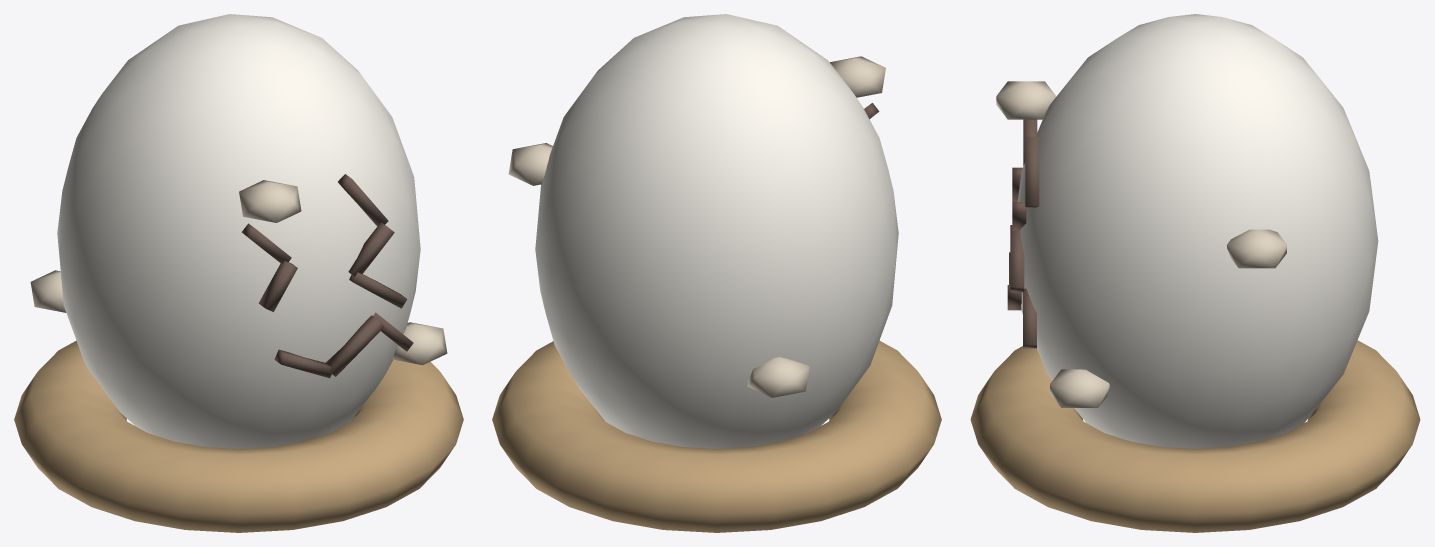
The model's file is egg.glb.
3 views of the same model, side by side, from view 1: azimuth 30°, elevation 25°; view 2: azimuth 150°, elevation 25°; view 3: azimuth 270°, elevation 25° (orthographic).
Parts seen in each view (by area): view 1: Egg, Egg_Nest, Crack_2, Crack_3, Egg_Spot2, Egg_Spot3, Crack_1, Egg_Spot1; view 2: Egg, Egg_Nest, Egg_Spot1, Egg_Spot2, Egg_Spot0; view 3: Egg, Egg_Nest, Crack_2, Egg_Spot0, Egg_Spot2, Egg_Spot3, Crack_3, Crack_1.
Boxes of the visible parts, box(x1,y1,x2,y2) form: Egg: box(57, 14, 420, 448); Egg_Nest: box(14, 340, 463, 532); Crack_2: box(338, 174, 407, 308); Crack_3: box(274, 312, 413, 378); Egg_Spot2: box(239, 180, 301, 222); Egg_Spot3: box(392, 322, 447, 365); Crack_1: box(241, 223, 297, 311); Egg_Spot1: box(30, 270, 66, 312); Egg: box(535, 14, 898, 448); Egg_Nest: box(492, 340, 941, 532); Egg_Spot1: box(747, 357, 809, 397); Egg_Spot2: box(830, 56, 885, 97); Egg_Spot0: box(508, 143, 552, 185); Egg: box(1017, 14, 1378, 448); Egg_Nest: box(970, 340, 1420, 532); Crack_2: box(1010, 137, 1039, 292); Egg_Spot0: box(1227, 229, 1286, 268); Egg_Spot2: box(996, 81, 1056, 119); Egg_Spot3: box(1050, 369, 1109, 407); Crack_3: box(1007, 252, 1036, 348); Crack_1: box(1012, 119, 1037, 201).
Size of the model in its own units: 0.32 by 0.338 by 0.32.
